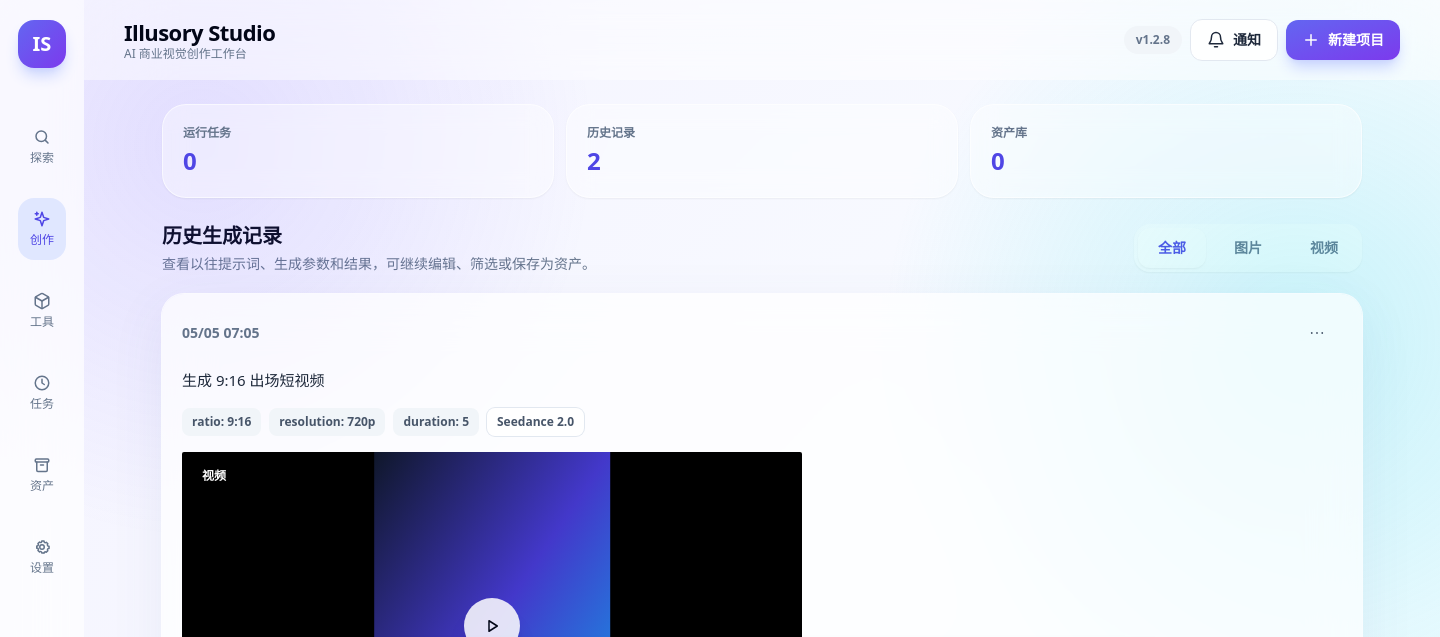
Illusory Studio API driven UI › navigates between sidebar sections
This screenshot has width=1440, height=637.
Click the button "探索" at [42, 147], box [18,116,66,178]
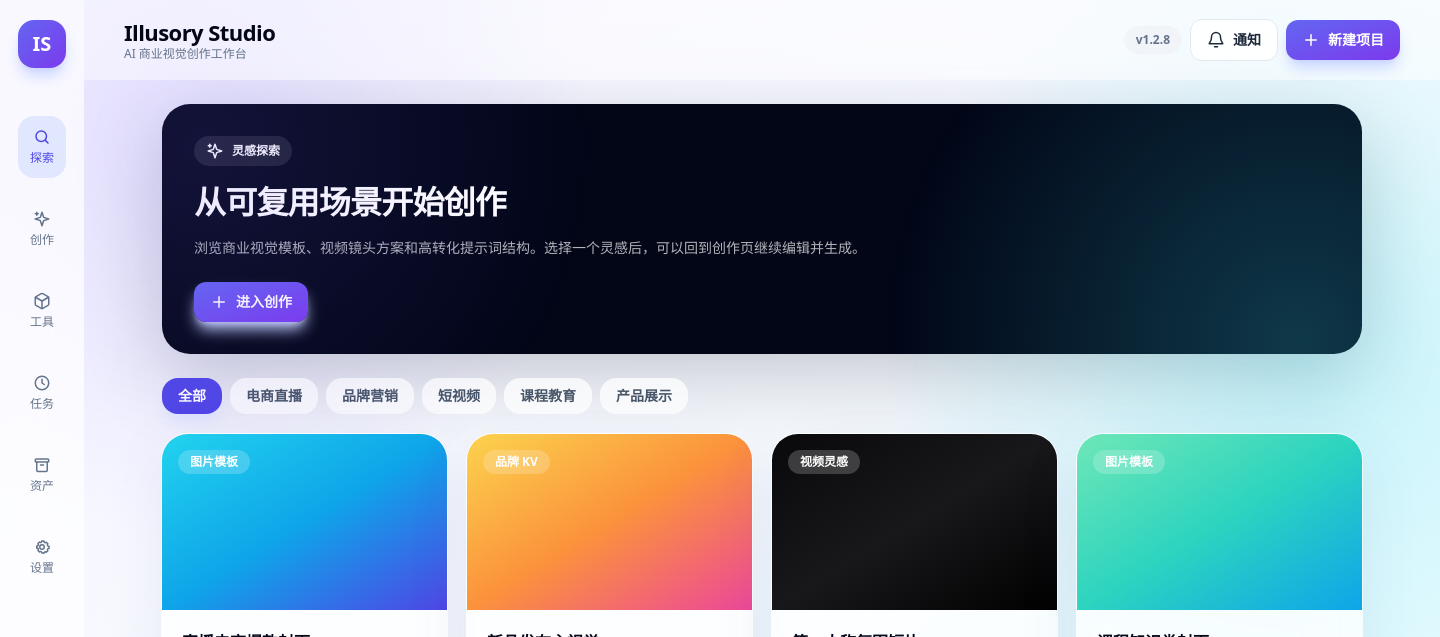
expect the text "灵感探索" is shown: met, box [194,136,292,166]
Click the button "任务" at [42, 393], box [18,362,66,424]
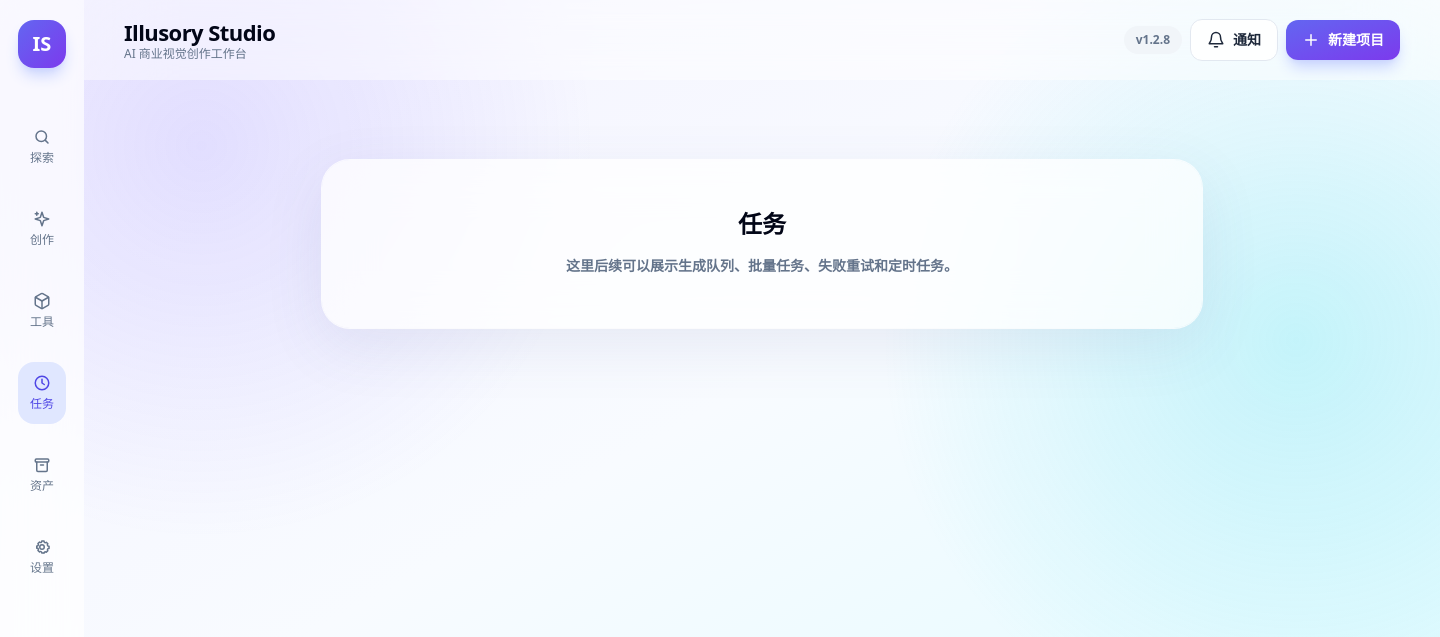
expect the heading "任务" is shown: met, box [738,207,786,240]
Click the button "资产" at [42, 475], box [18,444,66,506]
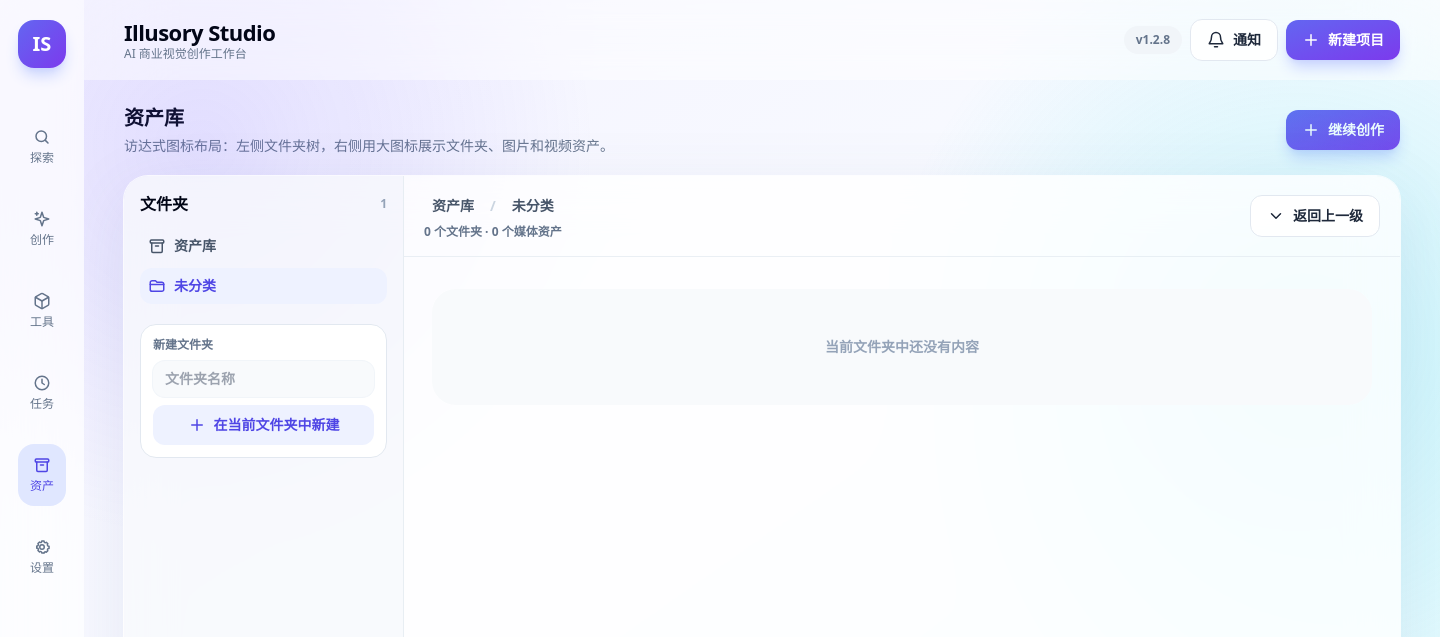
expect the heading "资产库" is shown: met, box [124,104,184,131]
Click the button "设置" at [42, 557], box [18,526,66,588]
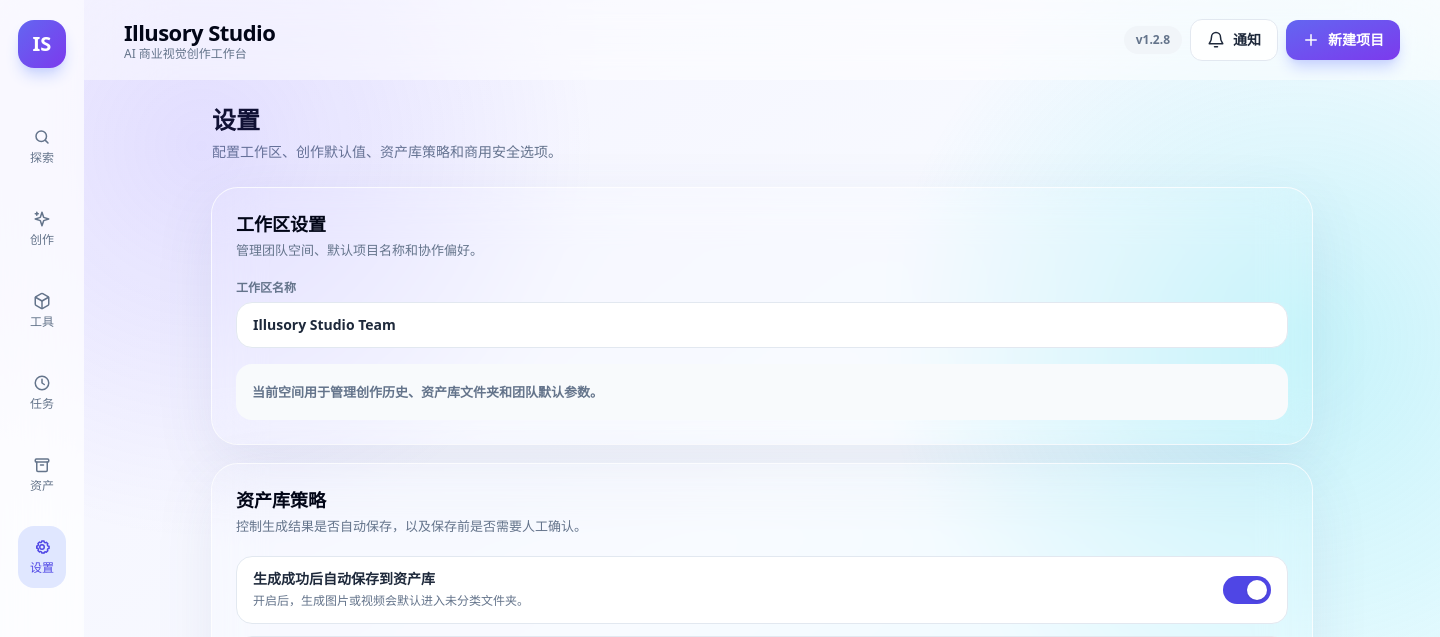
expect the heading "设置" is shown: met, box [212,103,260,136]
Click the button "创作" at [42, 229], box [18,198,66,260]
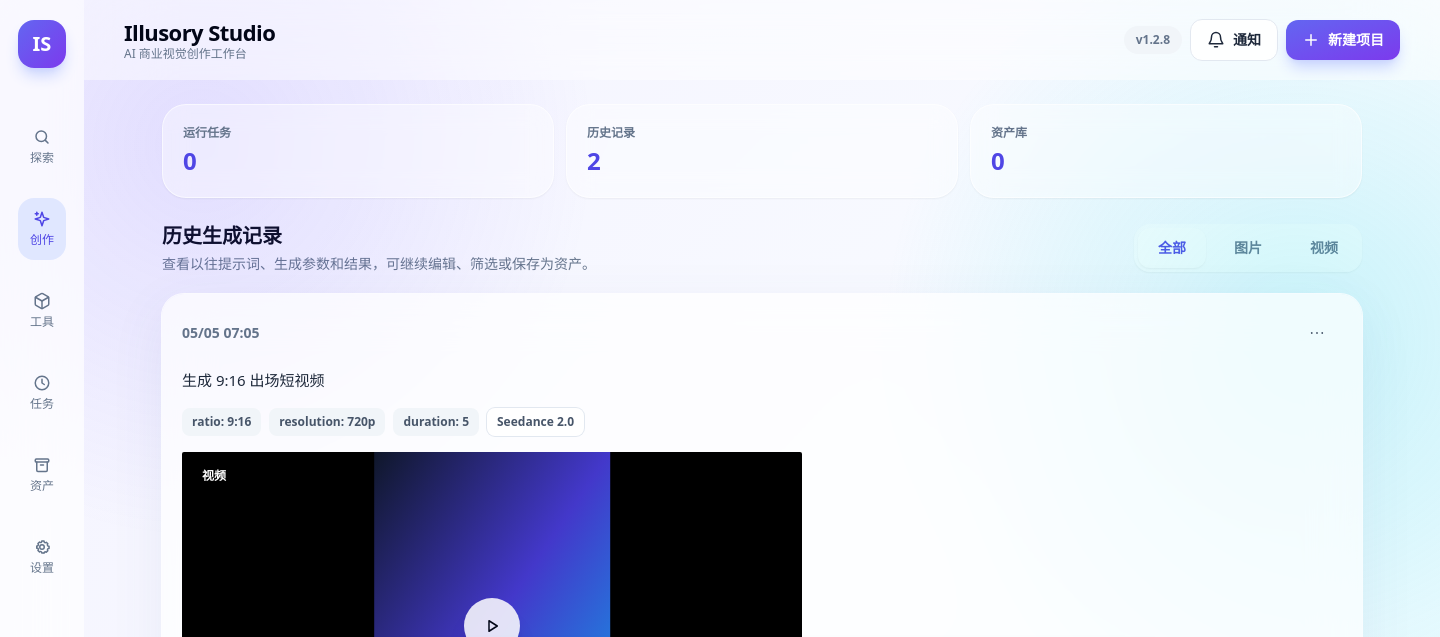
expect the heading "历史生成记录" is shown: met, box [162,222,282,249]
